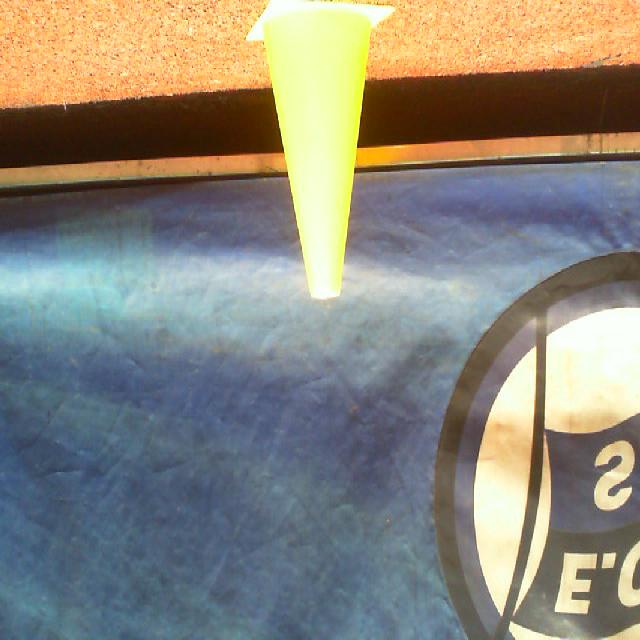cone: (244, 0, 398, 300)
